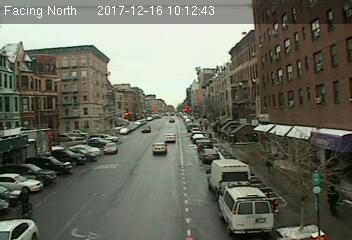bicycle: (15, 187, 34, 219)
car: (200, 148, 219, 162), (103, 142, 118, 155), (151, 142, 167, 154), (165, 133, 177, 143)
pedestrian: (326, 185, 342, 218)
police: (219, 183, 278, 235)
truck: (205, 158, 252, 198)
